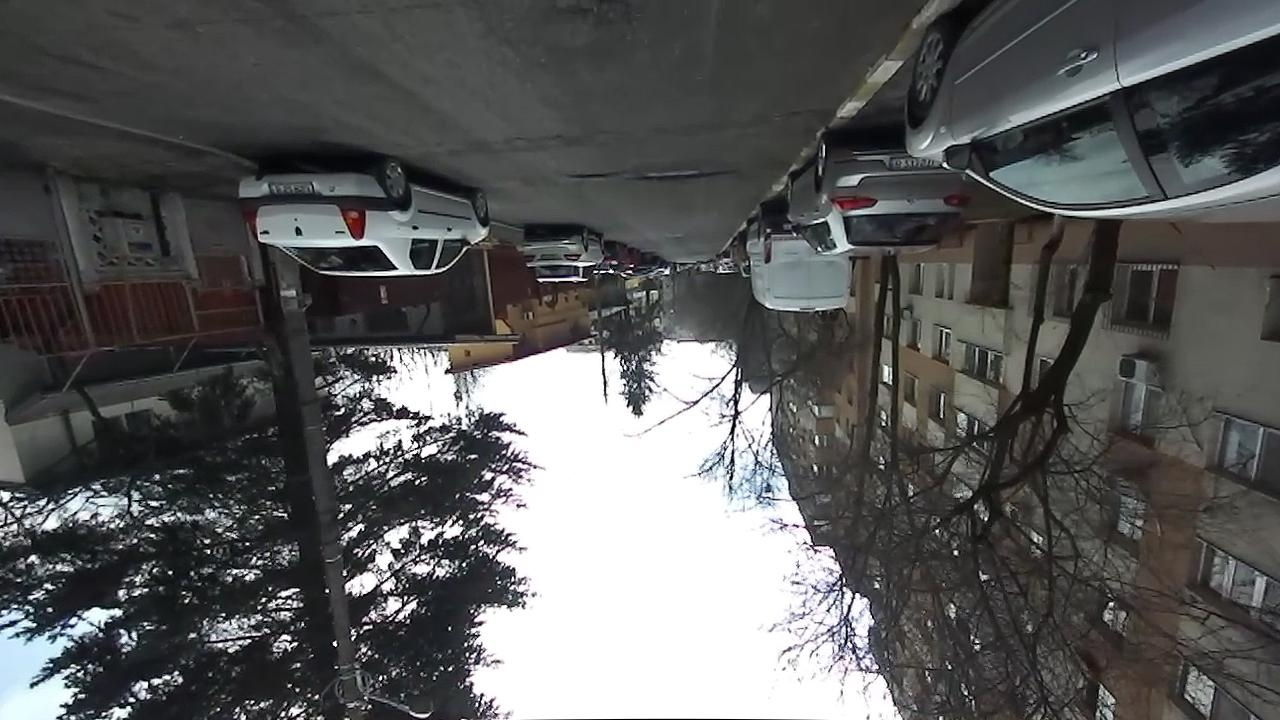pothole: (630, 163, 736, 186), (563, 164, 616, 185)
